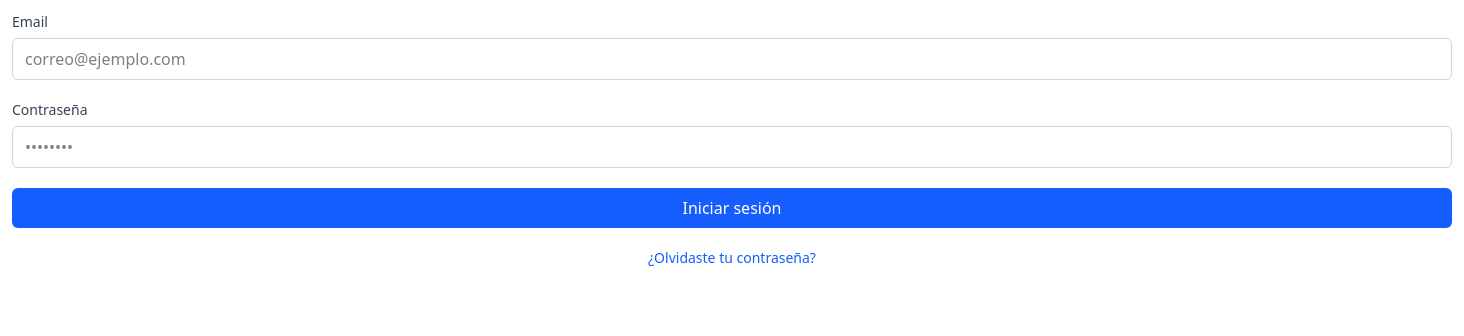
LoginForm › shows validation errors on empty submit
Click the button "Iniciar sesión" at {"x": 732, "y": 208}, box [12,188,1452,228]
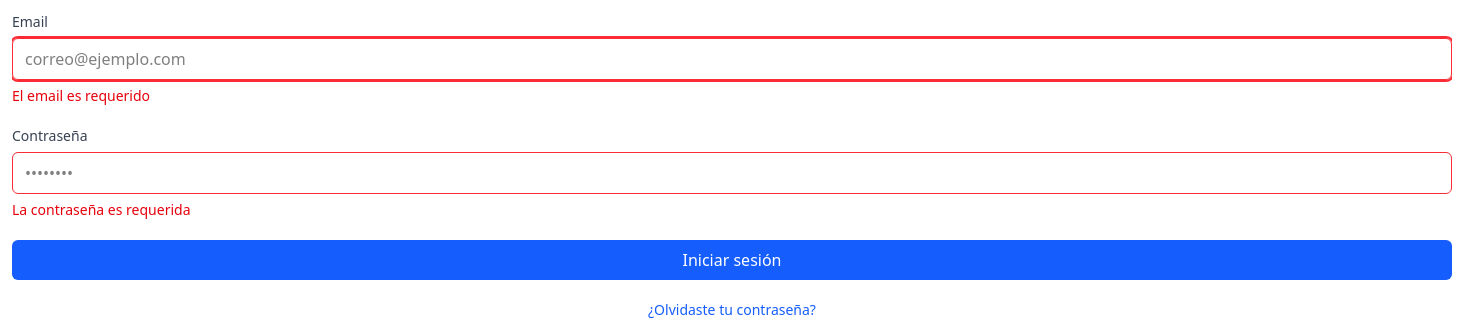
Expected: the text "El email es requerido" is shown, [12,86,150,105]
Expected: the text "La contraseña es requerida" is shown, [12,200,190,219]
